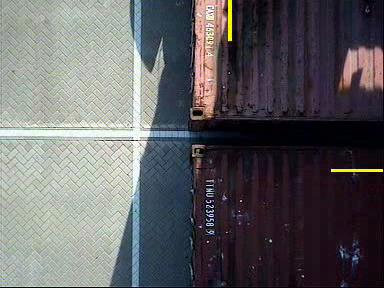groundmarker_2: (107, 48, 203, 131)
